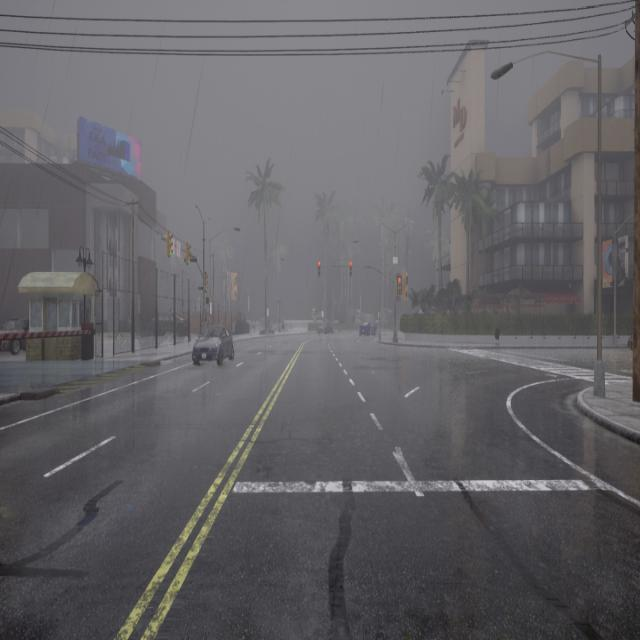6: (398, 277, 401, 283), (318, 260, 321, 266), (350, 260, 352, 266)
9: (168, 231, 174, 257), (186, 242, 191, 264), (624, 483, 640, 489), (397, 276, 402, 294), (318, 258, 322, 278), (205, 272, 209, 291), (350, 259, 352, 277)
bien_hieu_lenh: (169, 249, 173, 256), (187, 259, 190, 264), (206, 286, 208, 290)
